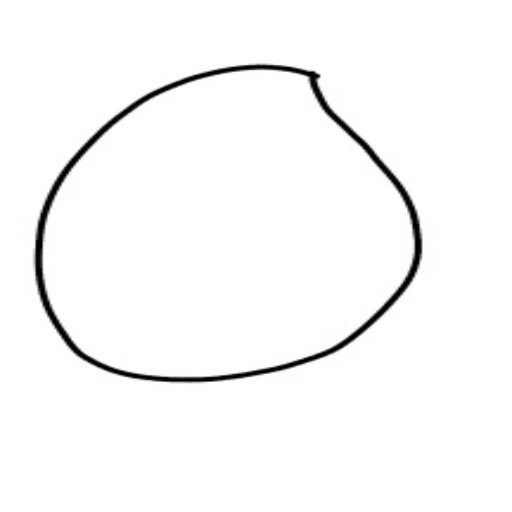circle: (23, 59, 457, 378)
